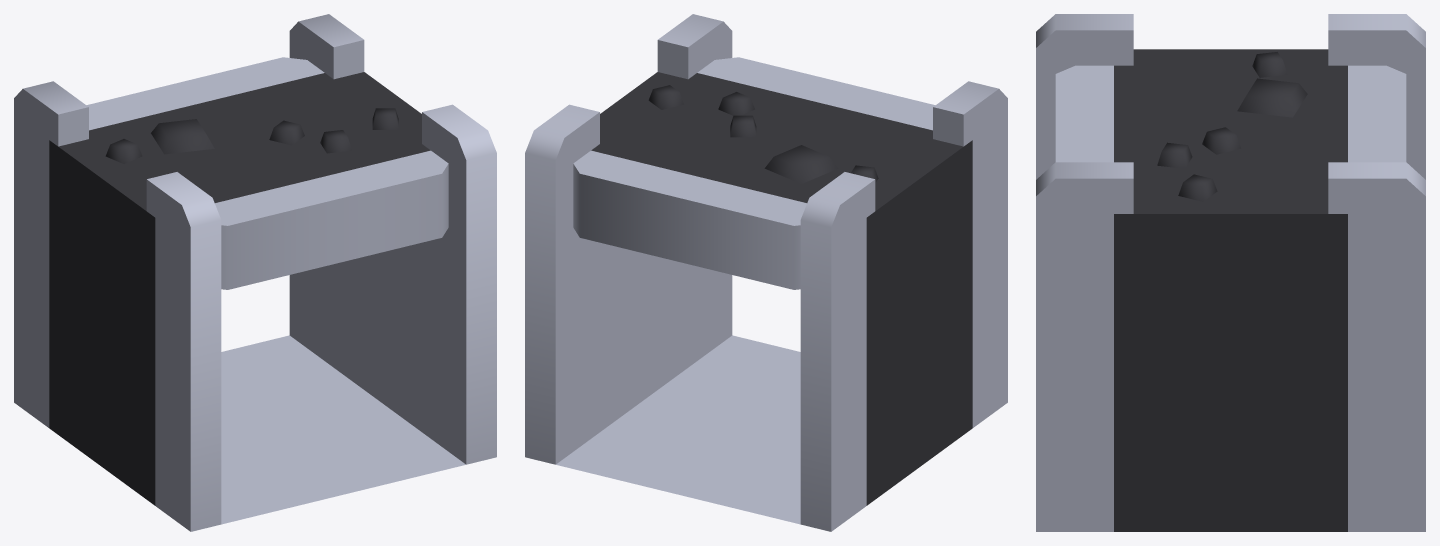
The model's file is wall-opening.dae.
3 views of the same model, side by side, from view 1: azimuth 30°, elevation 25°; view 2: azimuth 150°, elevation 25°; view 3: azimuth 270°, elevation 25° (orthographic). The views are drawn at different scales.
Parts seen in each view (by area): view 1: wall-opening; view 2: wall-opening; view 3: wall-opening.
Part boxes in pixels (<box>): wall-opening: <box>14,14,496,531</box>; wall-opening: <box>525,14,1007,531</box>; wall-opening: <box>1036,14,1425,531</box>.
Size of the model in its own units: 1 by 1 by 1.
